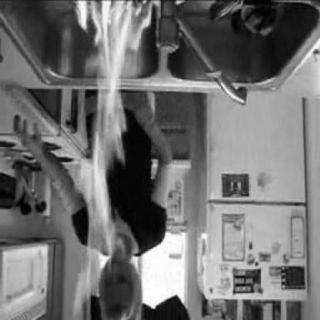Fire: (56, 3, 157, 319)
